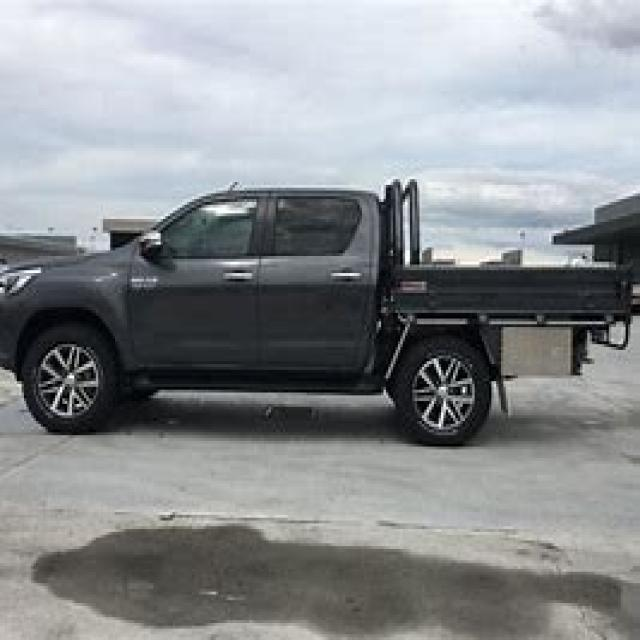light_vehicle: (0, 173, 638, 450)
